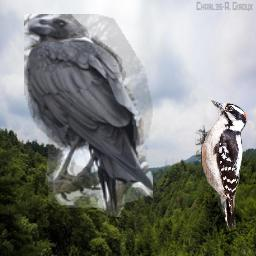Crow: (24, 14, 153, 217)
Woodpecker: (195, 99, 248, 232)
